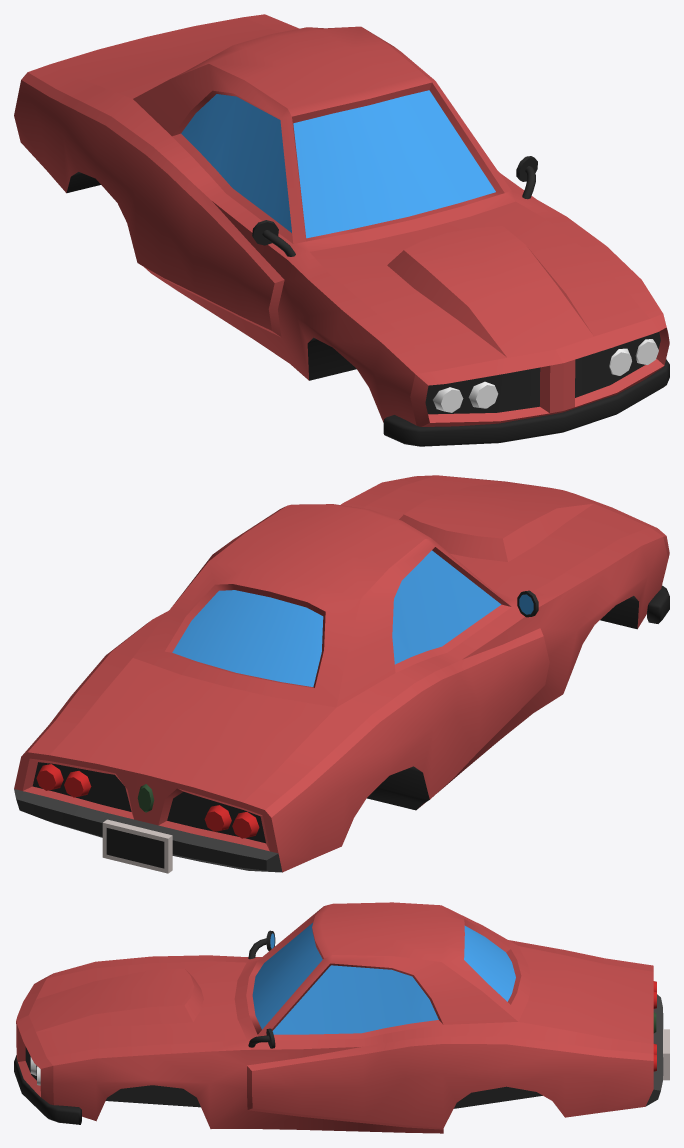
File: car_020.fbx
The picture shows the model from 3 angles, top to bottom: view 1: azimuth 30°, elevation 25°; view 2: azimuth 150°, elevation 25°; view 3: azimuth 270°, elevation 25°; orthographic projection. The views are drawn at different scales.
Visible parts, largest first — view 1: car_020; view 2: car_020; view 3: car_020.
Boxes of the visible parts, x1=… form: car_020: x1=14, y1=14, x2=669, y2=446; car_020: x1=14, y1=475, x2=669, y2=873; car_020: x1=14, y1=902, x2=669, y2=1133.
Size of the model in its own units: 224 by 151 by 558.
